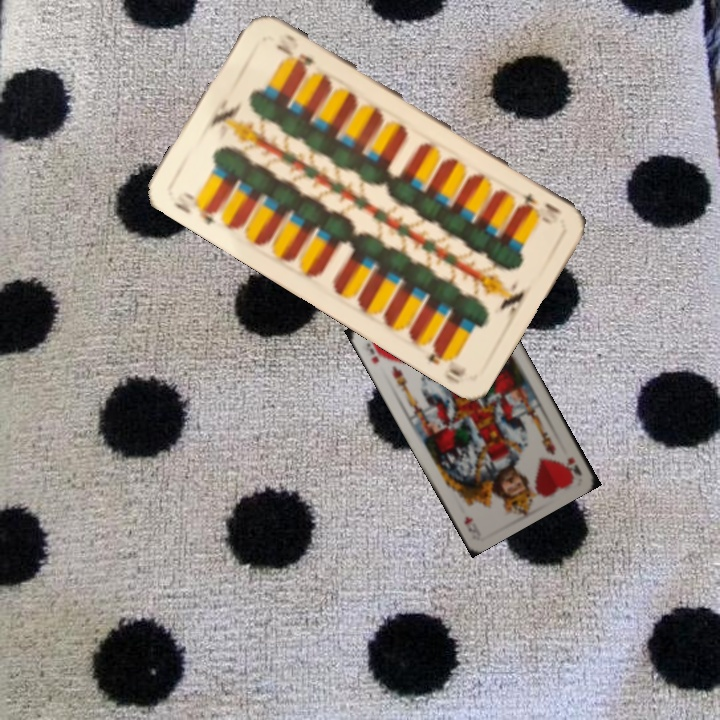E10: (169, 188, 221, 228), (511, 188, 565, 218)
HK: (363, 336, 387, 366), (562, 453, 584, 481)
